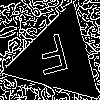F: (33, 33, 74, 85)
